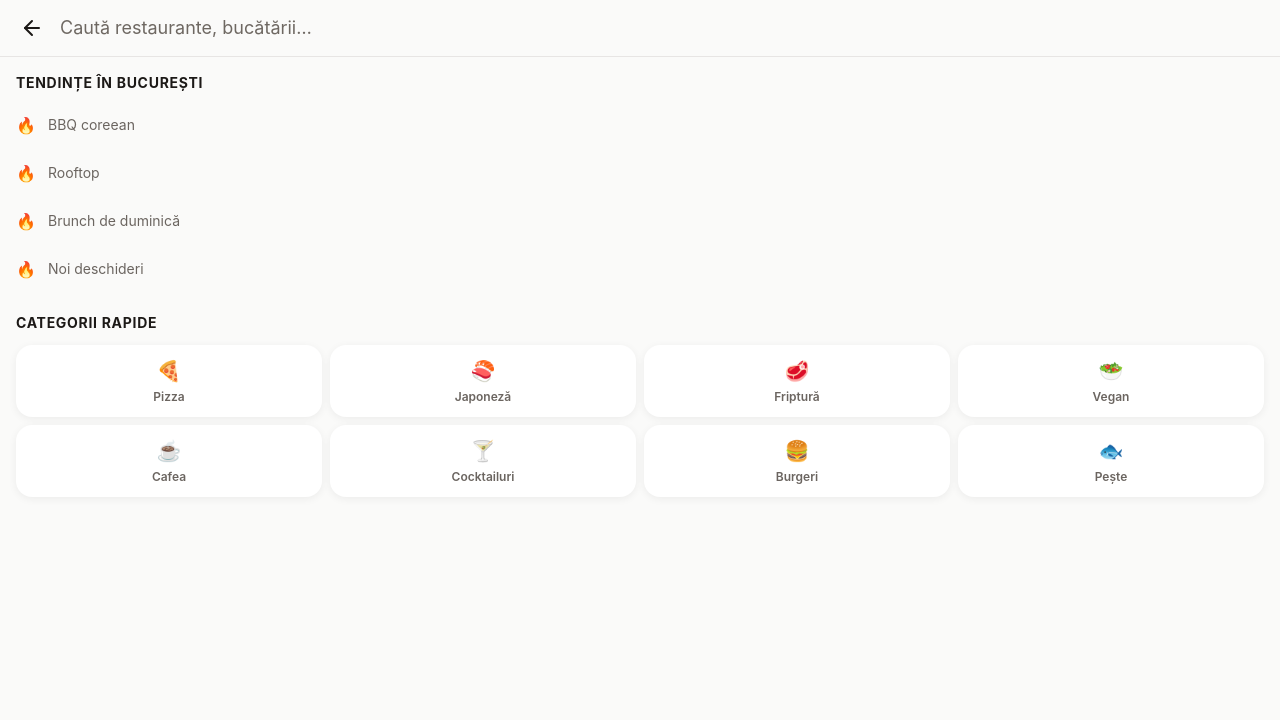
Test case: SearchOverlay › clicking a quick category sets the query
The width and height of the screenshot is (1280, 720).
Click the text "Pizza". click: (169, 397)
box: [153,389,185,405]
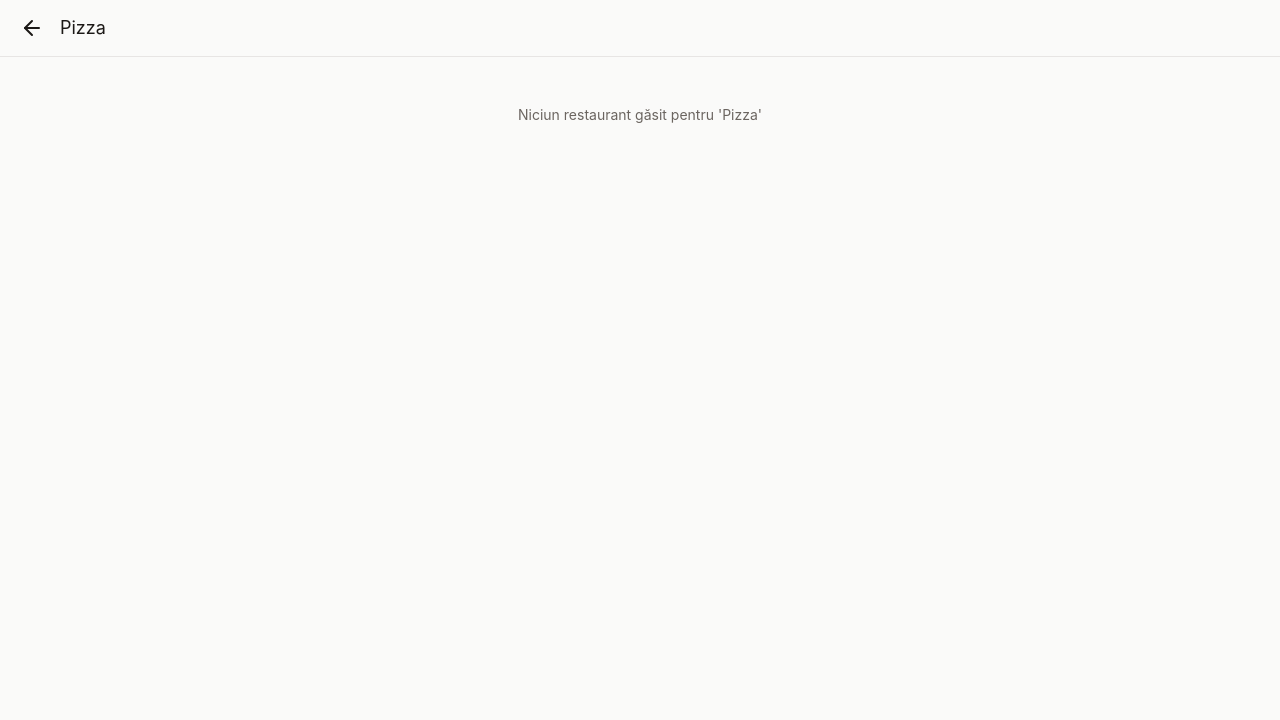
Expected: the field with placeholder "Caută restaurante, bucătării…" holds "Pizza", [60,14,1264,42]
